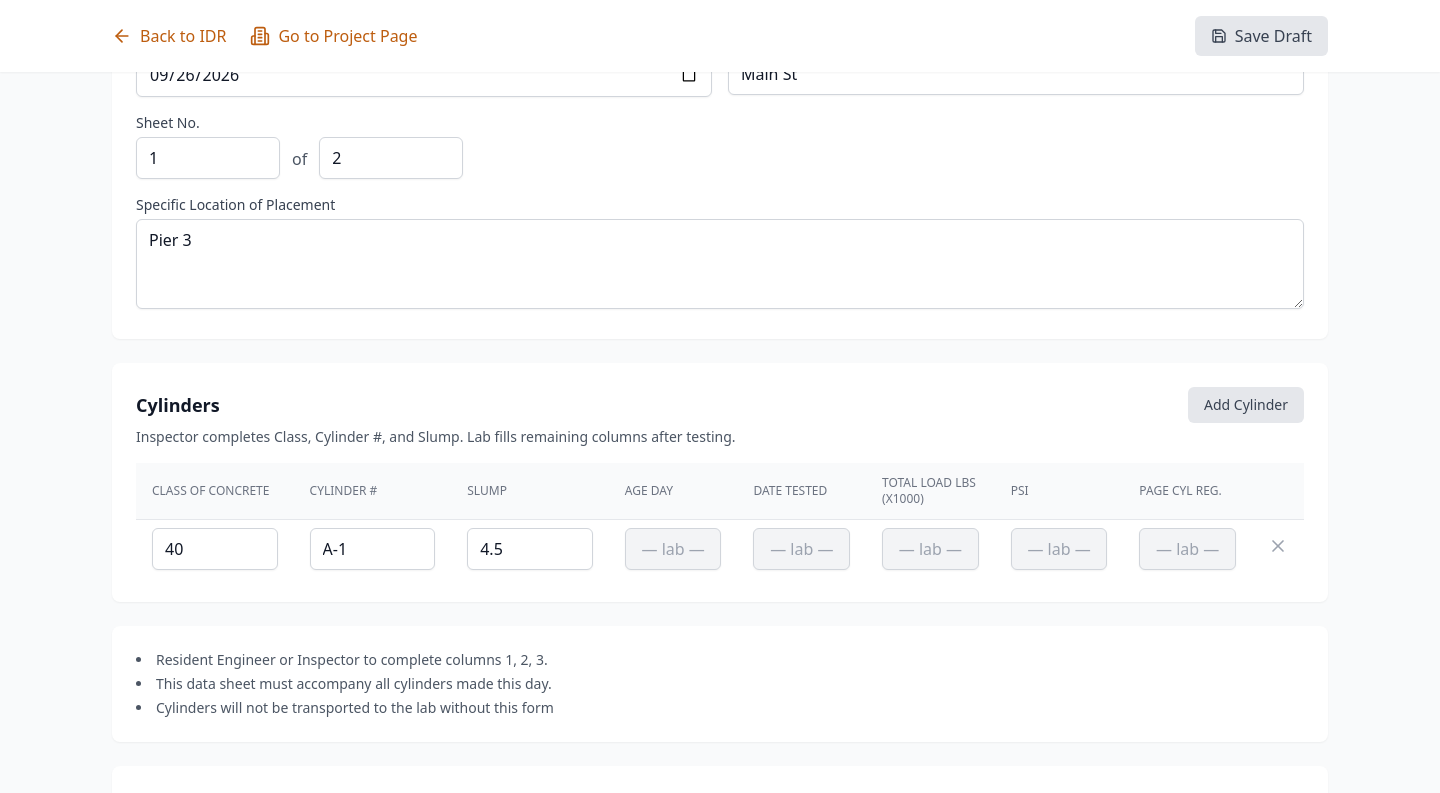
Test: ConcCylReportPage — cylinders › adds a row per Add Cylinder click
(page scrolled)
Expected: the number of fields named "Cylinder 1 Cylinder #" is 1, [310,528,435,570]
Click the button "Add Cylinder".
click(1246, 405)  # box [1188,387,1304,423]
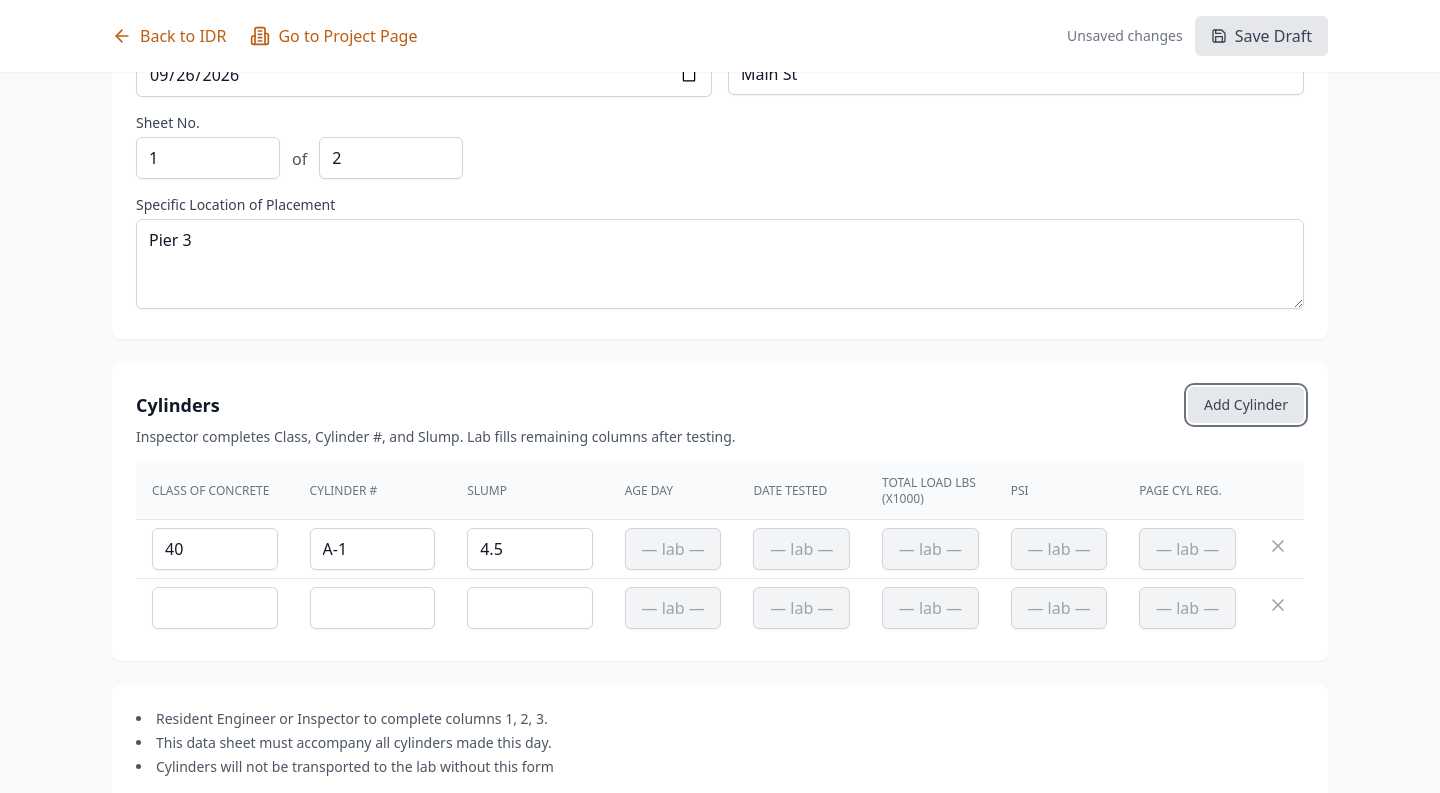
Expected: the field named "Cylinder 2 Cylinder #" is empty, [310,587,435,629]
Expected: the number of fields named "Cylinder 1 Cylinder #" is 2, [310,528,435,570]; [310,587,435,629]
